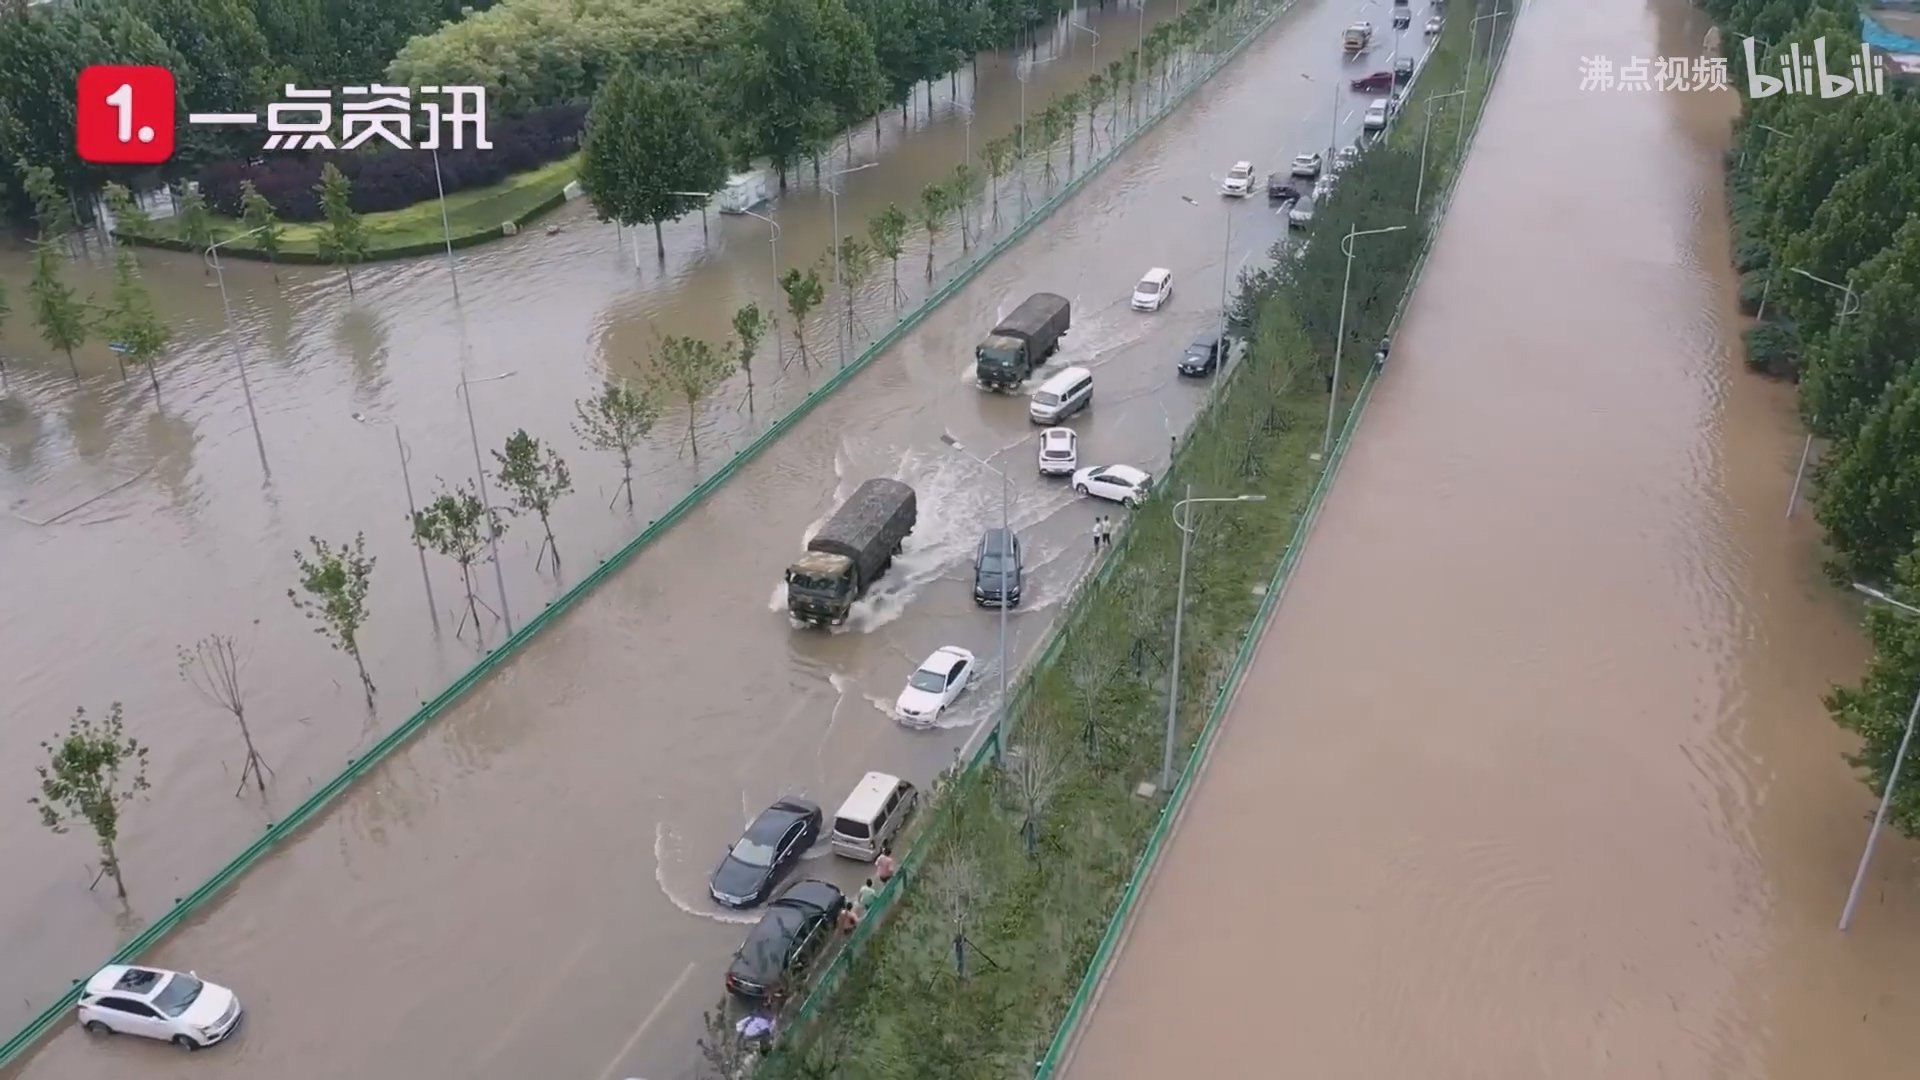puddle: (30, 219, 1040, 1080), (1267, 305, 1919, 1080)
